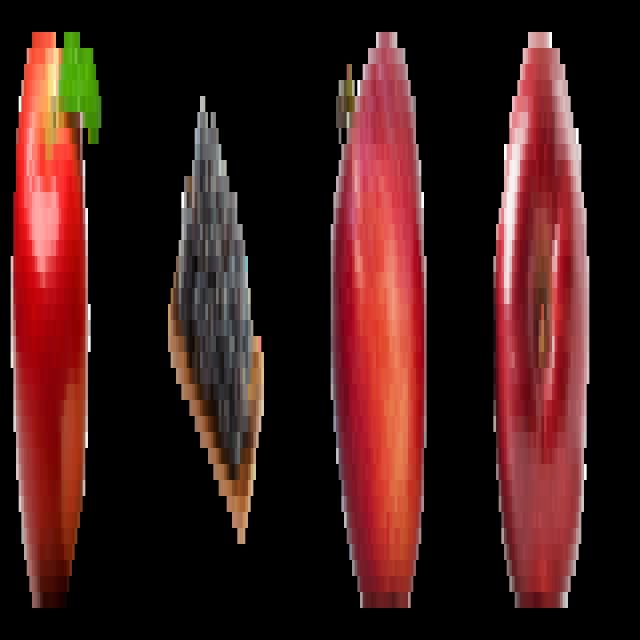apple: (321, 19, 432, 622), (487, 19, 592, 628), (8, 12, 104, 622)
grape: (164, 67, 272, 567)
